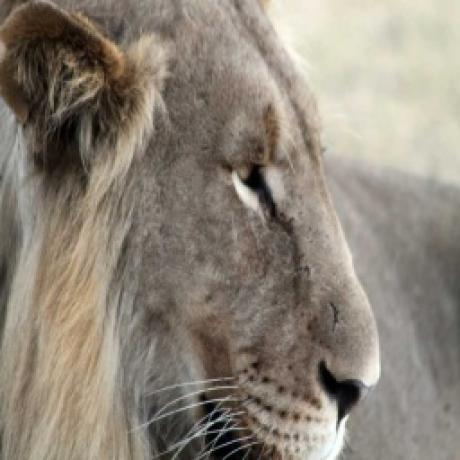Lion: (0, 0, 388, 460)
